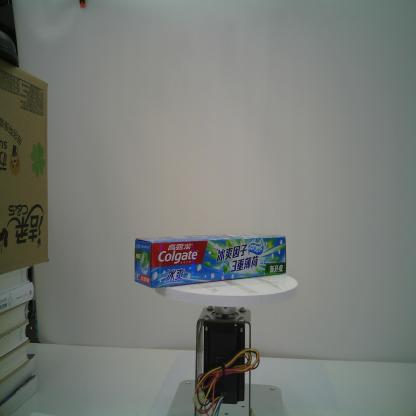Personal Hygiene: (132, 231, 288, 288)
